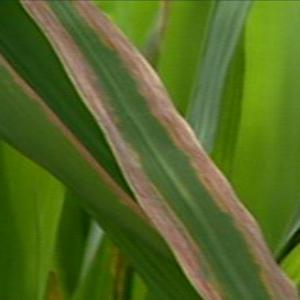2 BacterialBlight: (144, 112, 285, 300)
